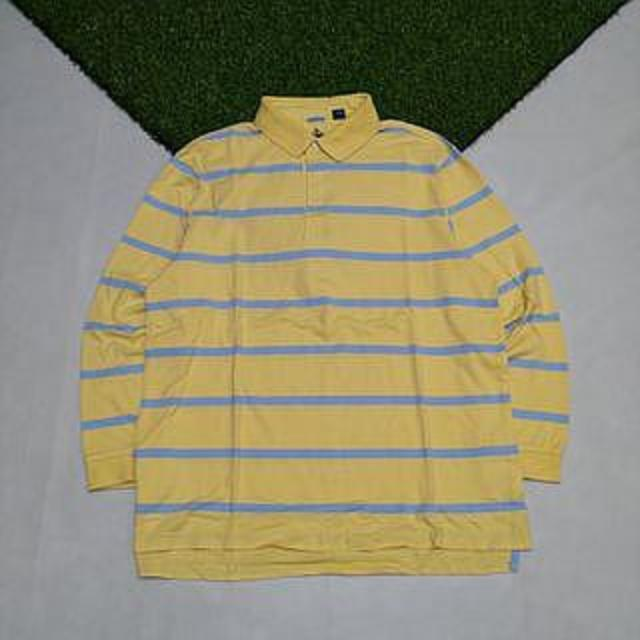T_SHIRT: (61, 82, 612, 593)
